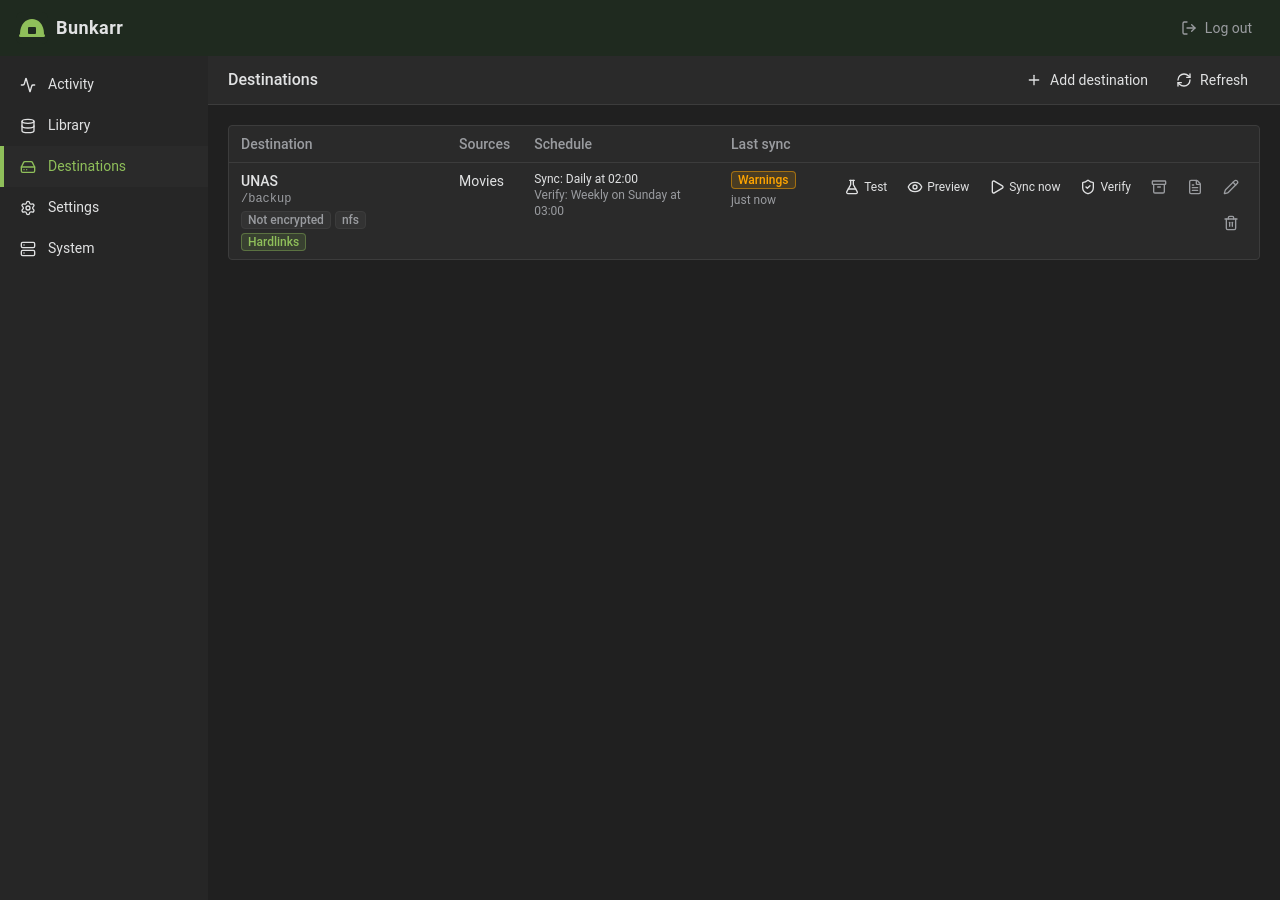
Test: Destinations list › shows the last sync and capabilities, previews, syncs and tests
Expected: the text "Hardlinks" is shown, [241, 233, 306, 251]
Expected: the text "Sync: Daily at 02:00" is shown, [534, 172, 638, 186]
Click the button with aria-label "Sync UNAS now": (1025, 187) [981, 171, 1068, 203]
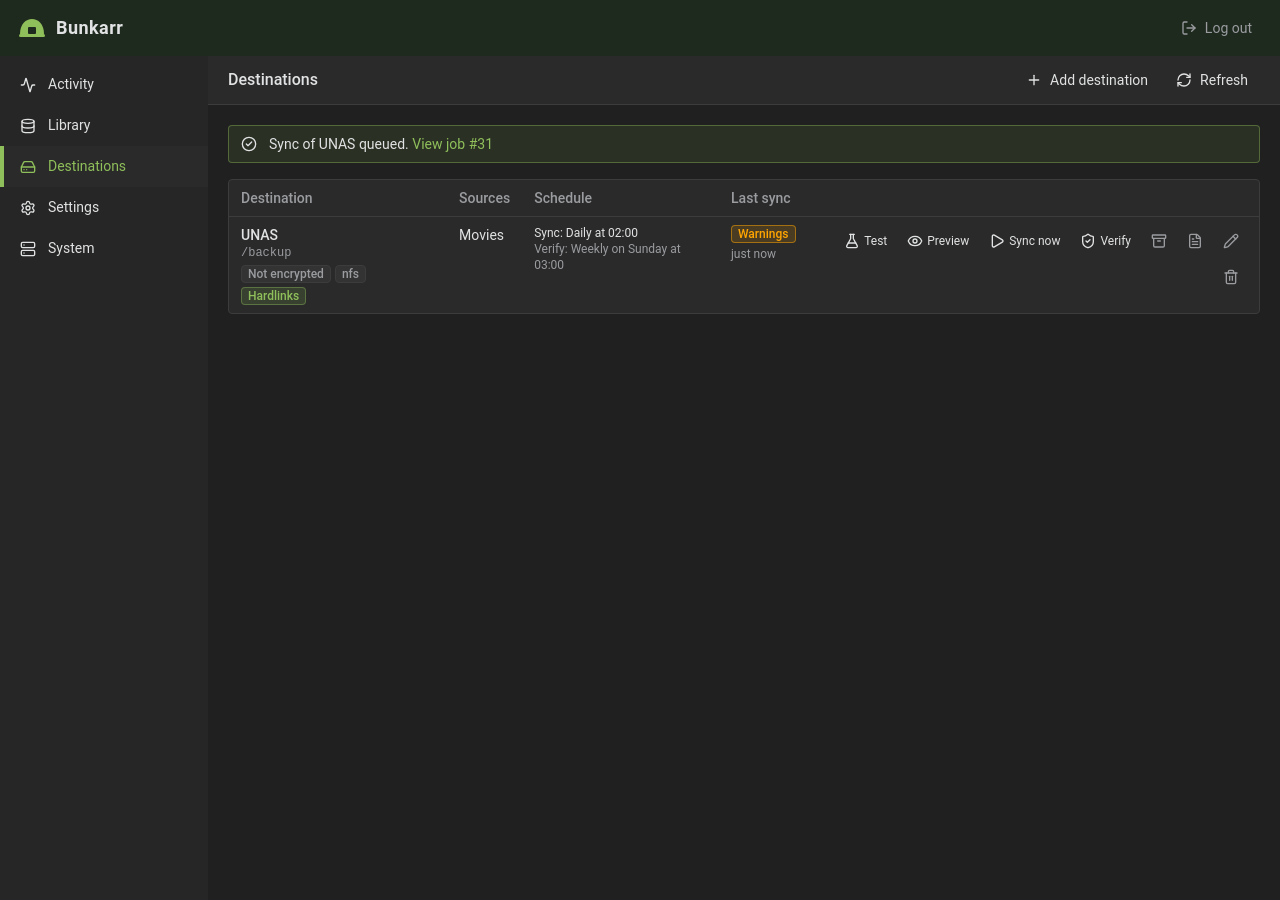
Click the button with aria-label "Test UNAS": (866, 241) [836, 225, 895, 257]
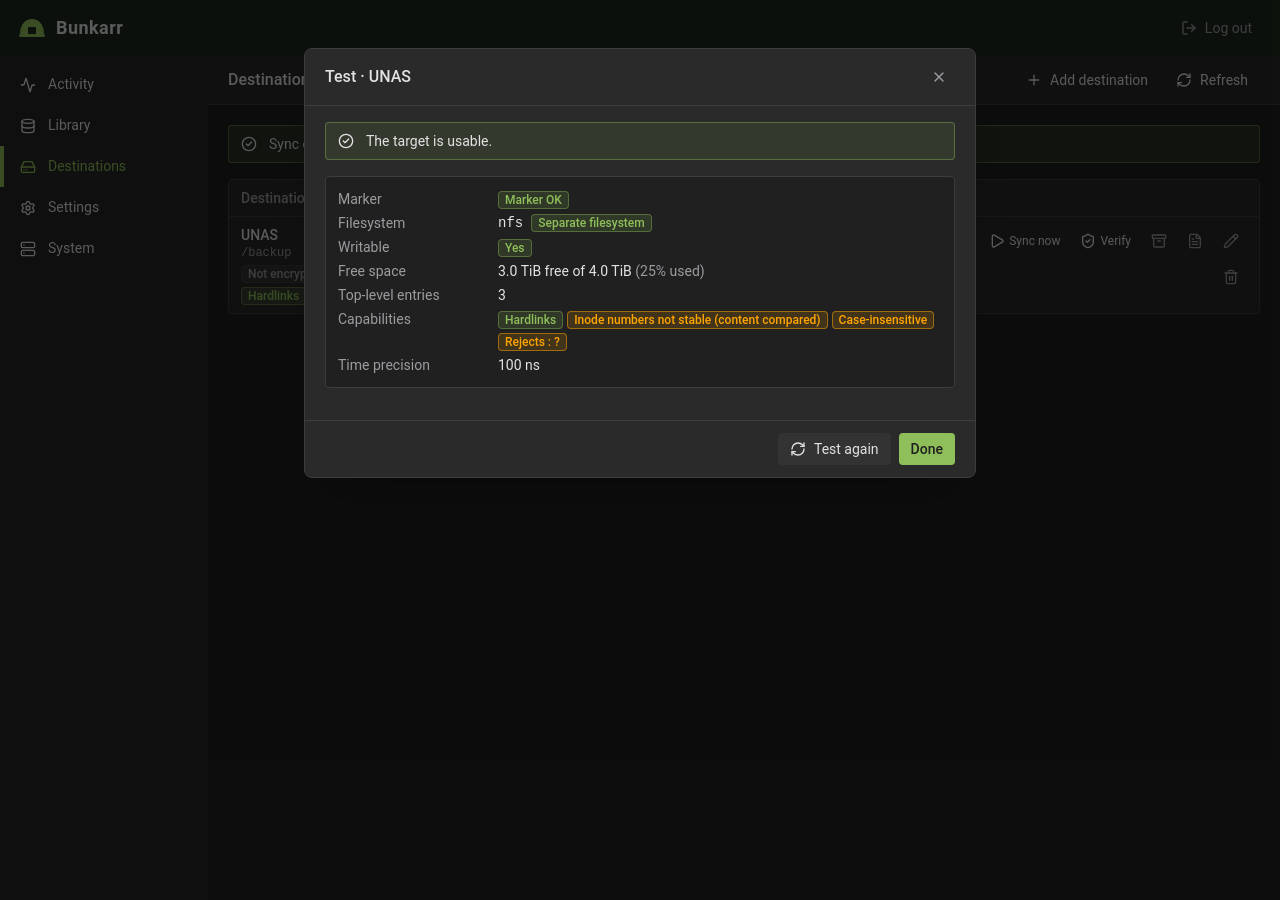
Expected: the text "Marker OK" is shown, [498, 191, 569, 209]
Expected: the text "Inode numbers not stable (content compared)" is shown once, [567, 311, 828, 329]
Click the button "Done": (927, 449) [899, 433, 955, 465]
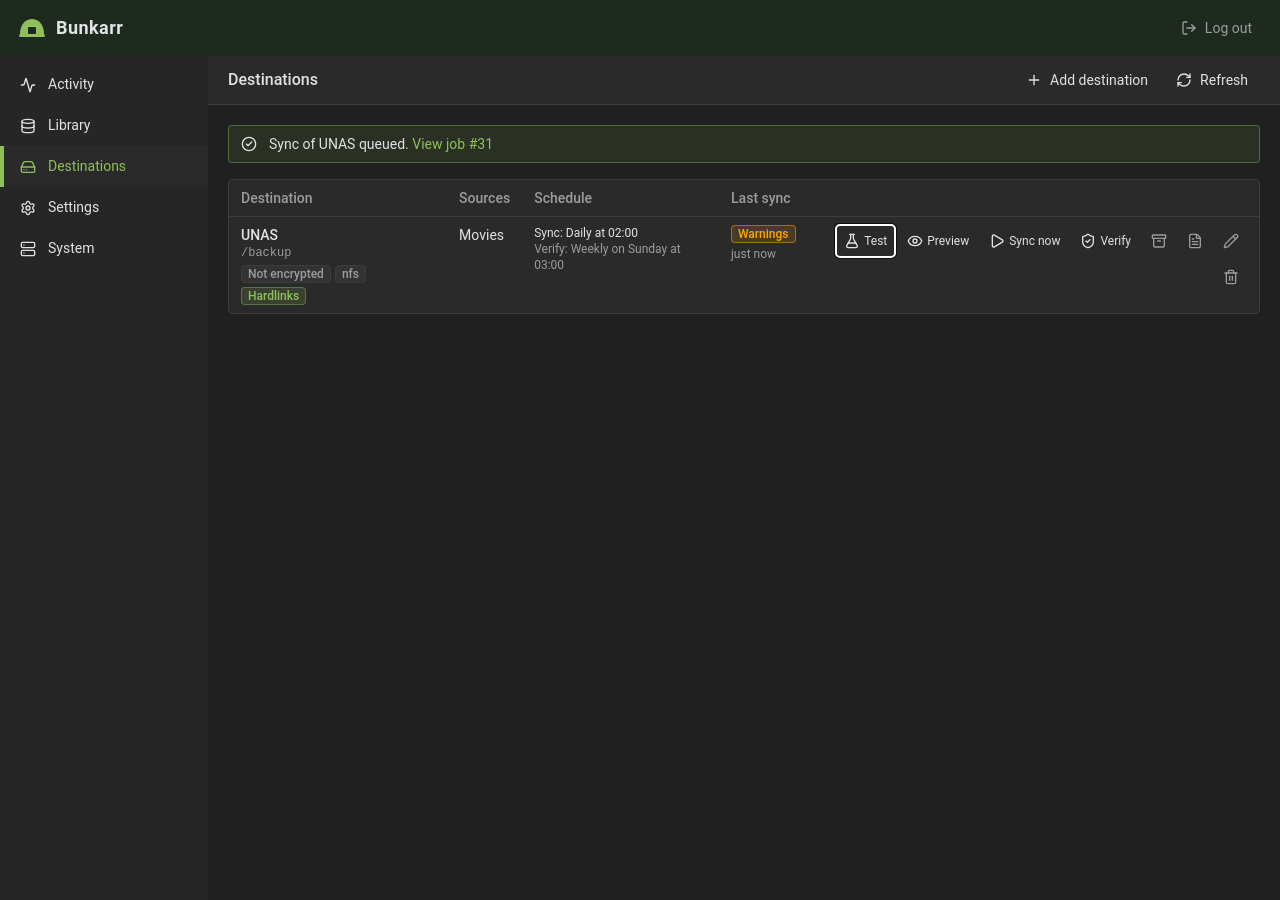
Click the button with aria-label "Preview a sync of UNAS": (938, 241) [899, 225, 977, 257]
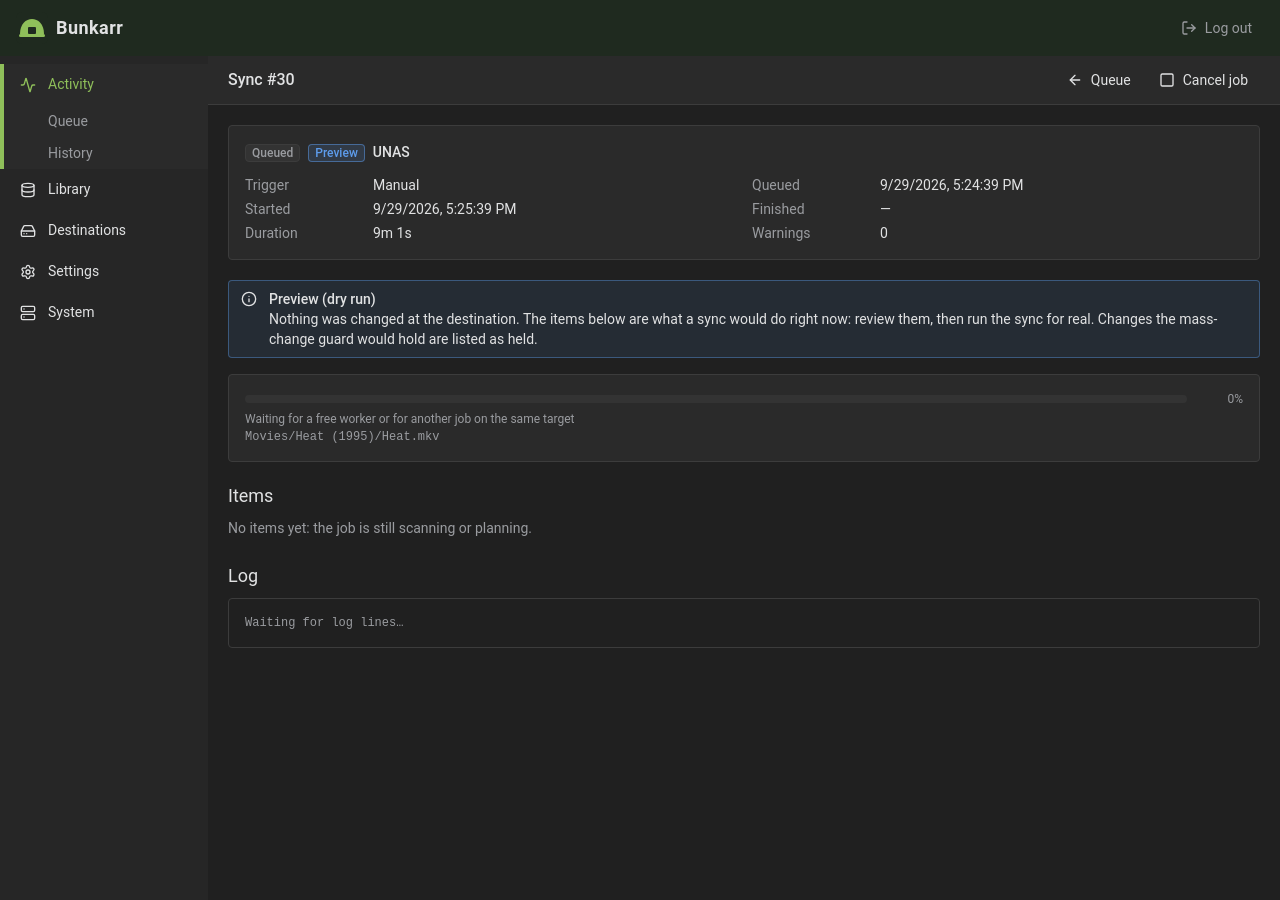
Expected: the heading "Sync #30" is shown, [228, 68, 295, 92]
